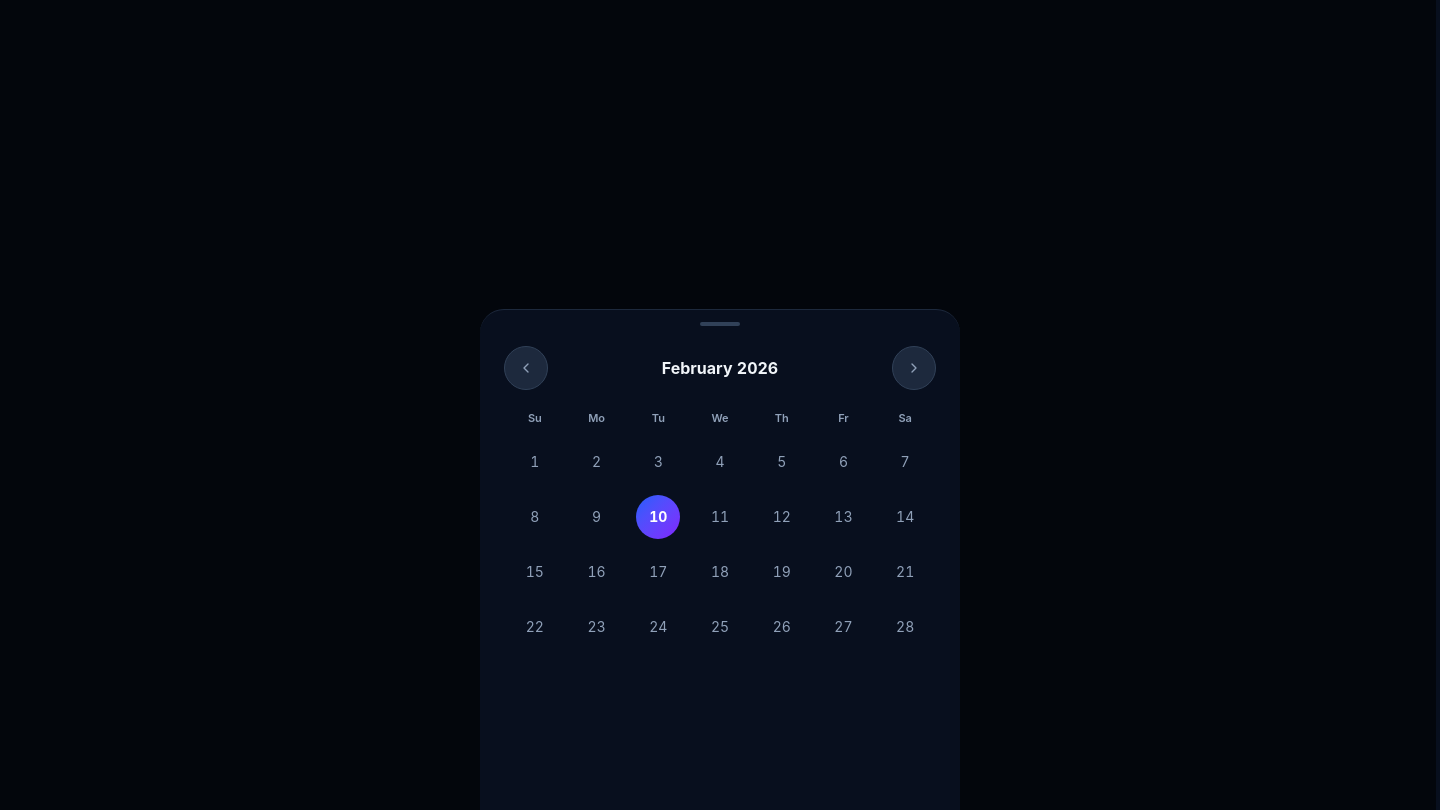
Test case: DatePickerSheet › lays out six weeks for every month, so the picker keeps its size
Click the button named "next month" at (914, 368), box [892,346,936,390]
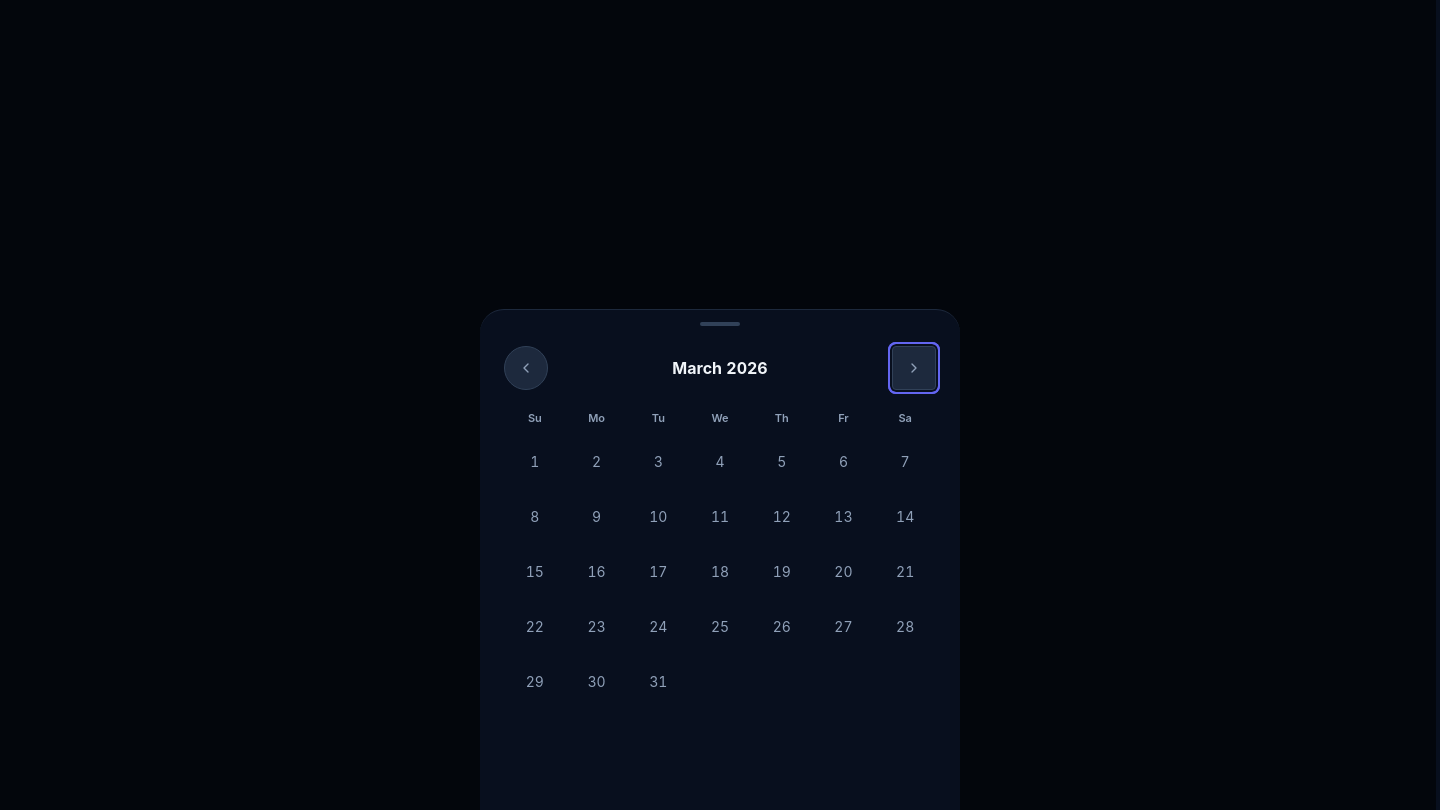
Click the button named "next month" at (914, 368), box [892,346,936,390]
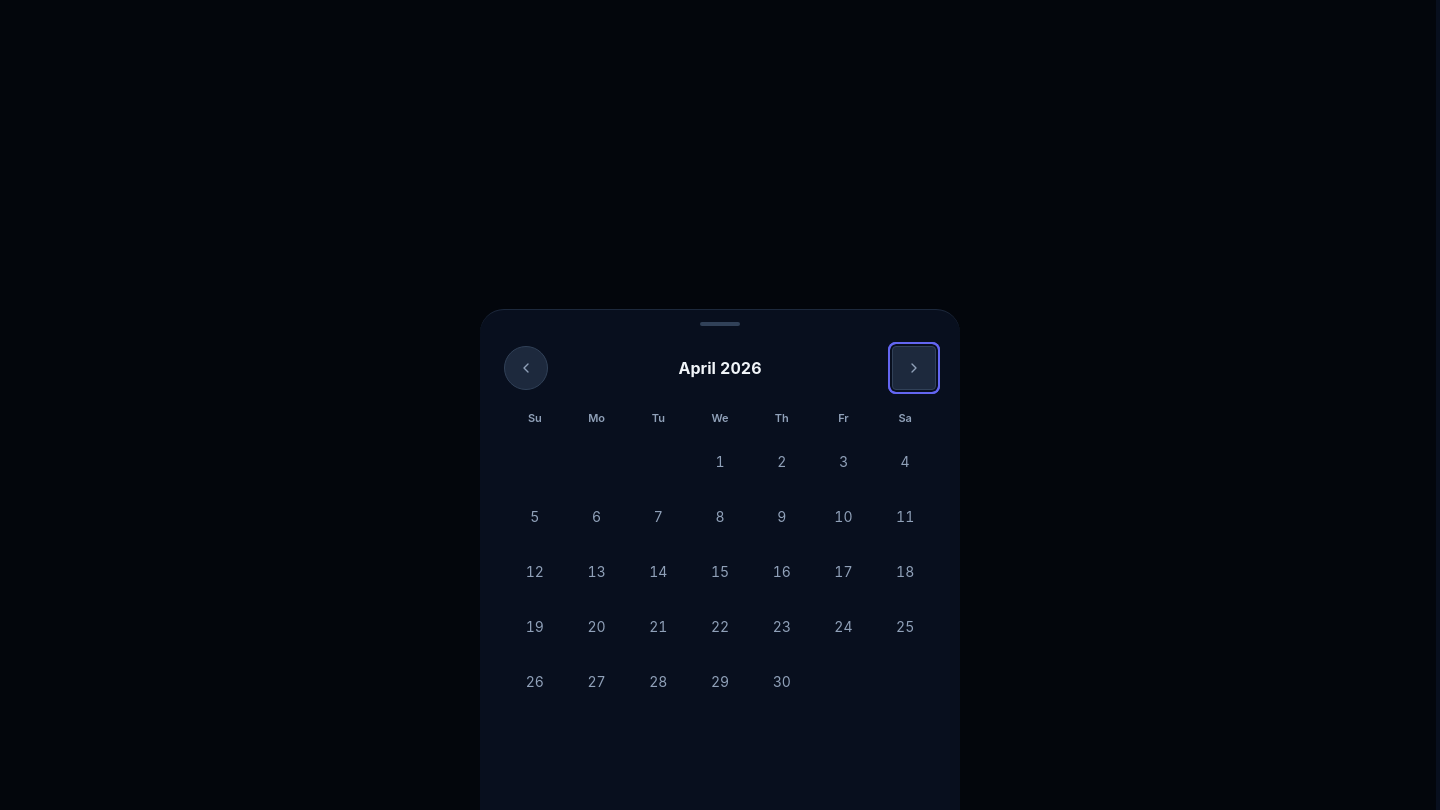
Click the button named "next month" at (914, 368), box [892,346,936,390]
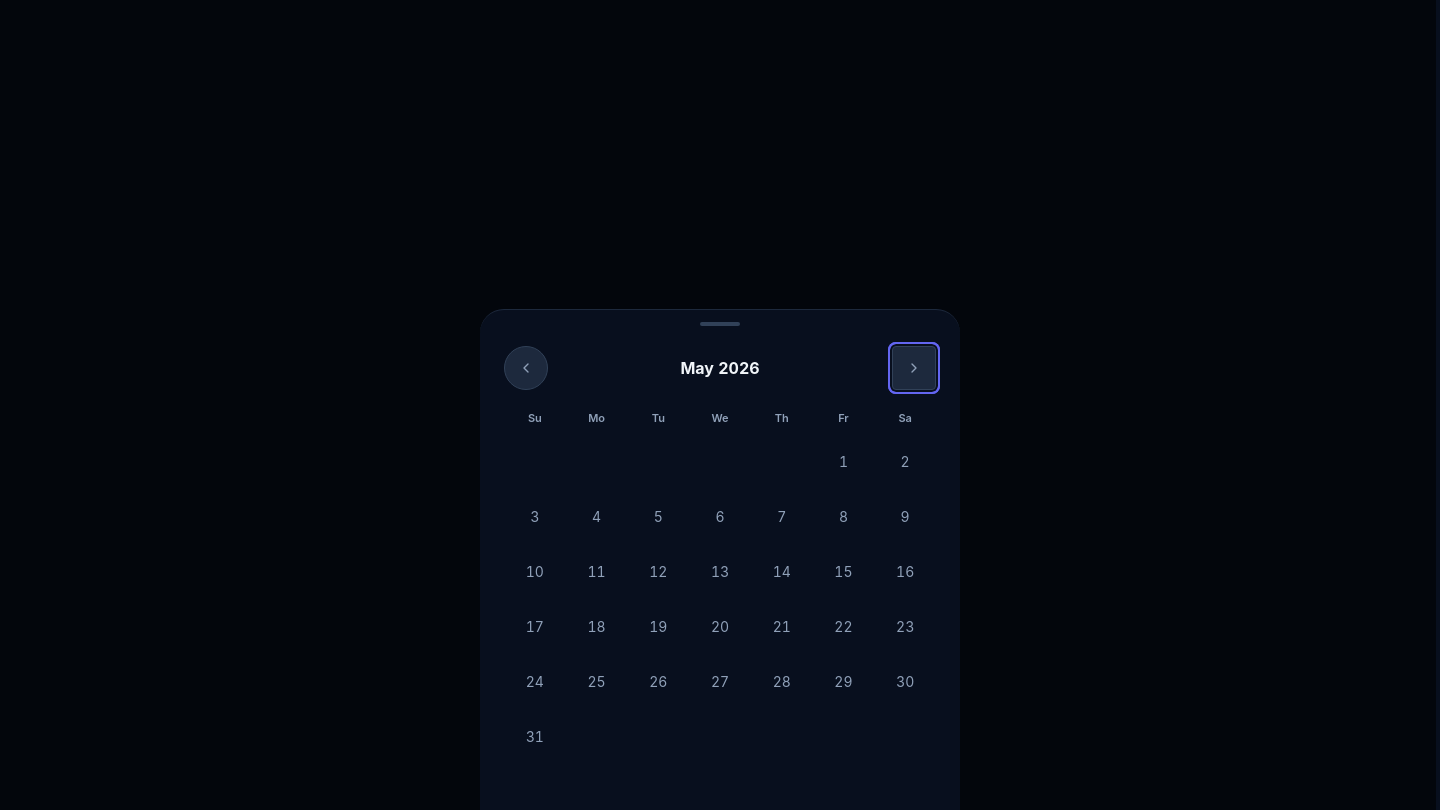
Click the button named "next month" at (914, 368), box [892,346,936,390]
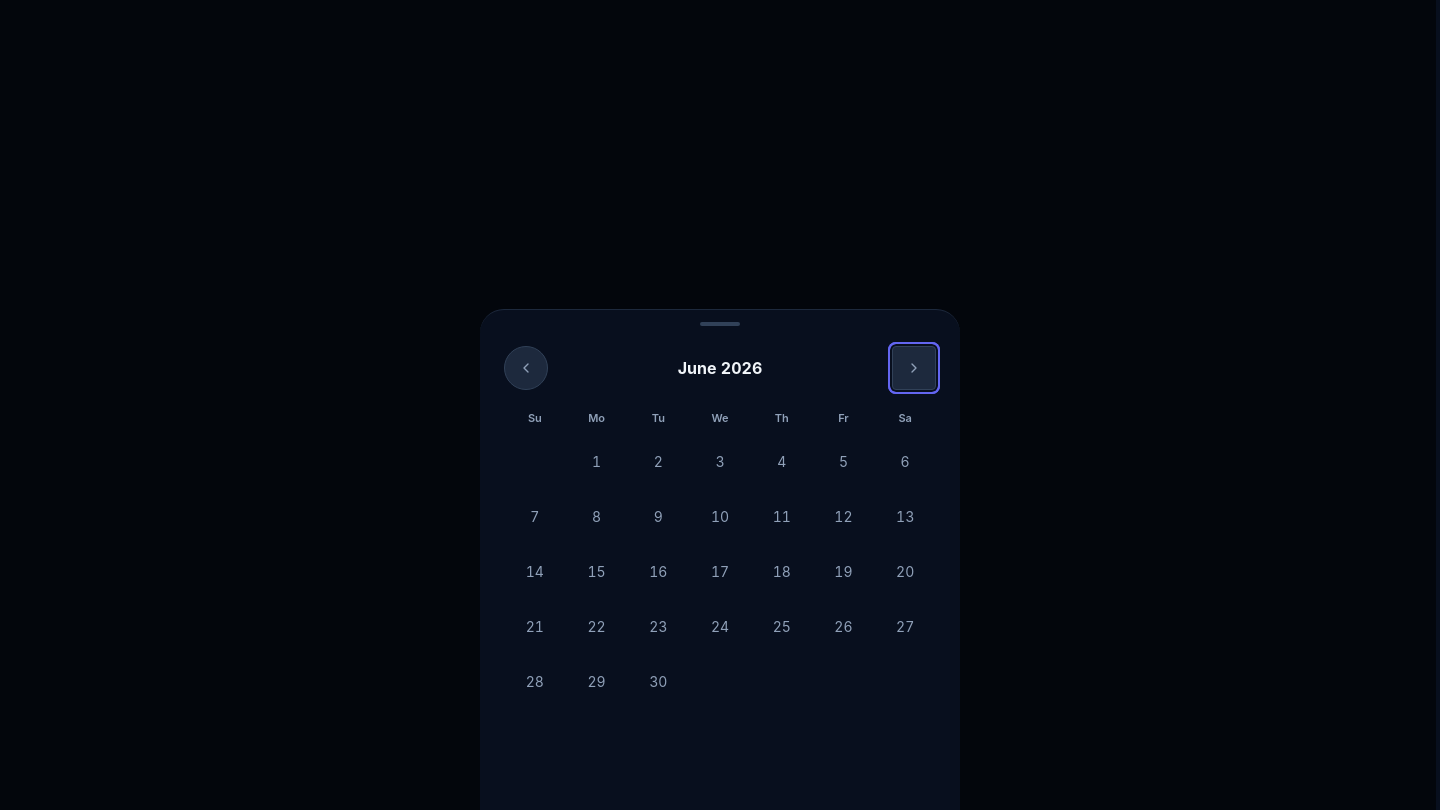
Click the button named "next month" at (914, 368), box [892,346,936,390]
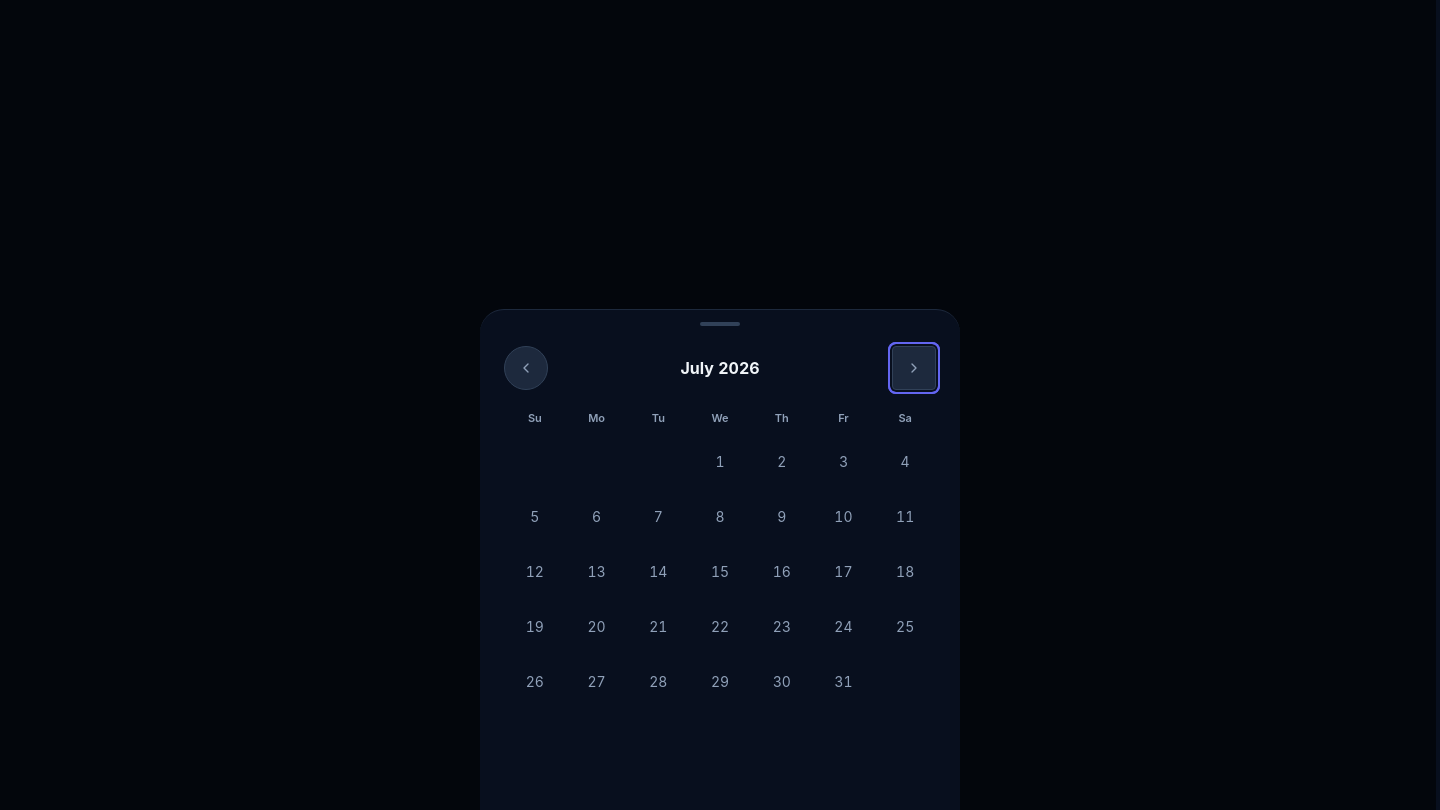
Click the button named "next month" at (914, 368), box [892,346,936,390]
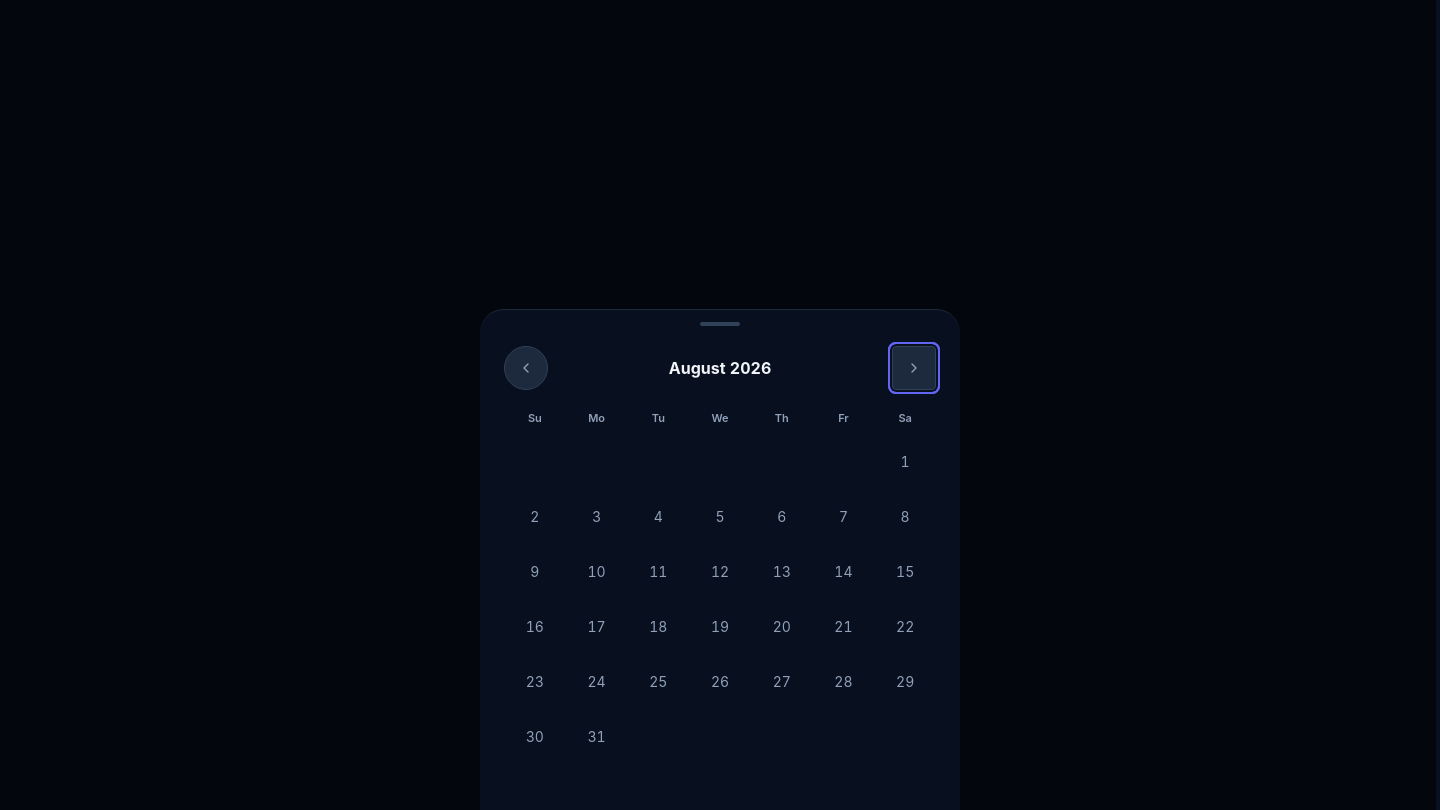
Check: the text "August 2026" is shown, box [669,356,771,380]
